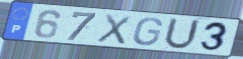3: (199, 20, 230, 53)
6: (33, 9, 62, 39)
7: (65, 10, 99, 42)
G: (131, 17, 164, 47)
U: (162, 16, 202, 51)
X: (95, 13, 133, 46)
